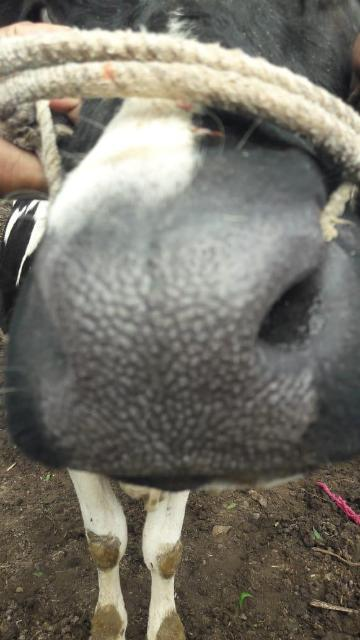Muzzle: (65, 242, 265, 466)
